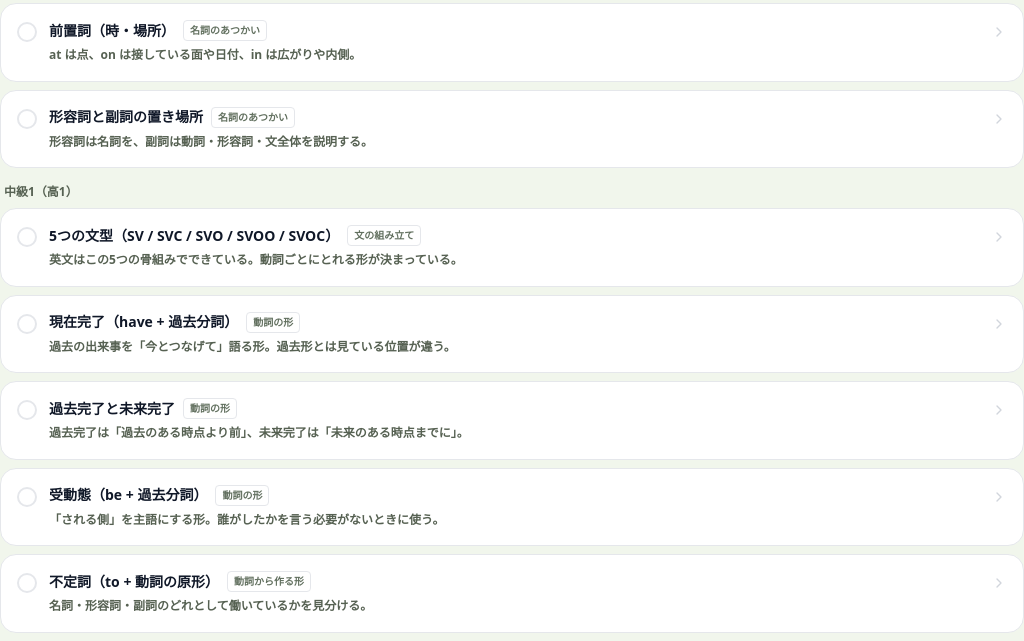
Test: 項目の詳細 › その文法が出てくる長文を並べる
(page scrolled)
Note: 現在完了は収録している長文の多くに出てくる
Step 1. Click the button with id "grammar_topic_g_present_perfect" → (144,322), box [0,294,1023,373]
(page scrolled)
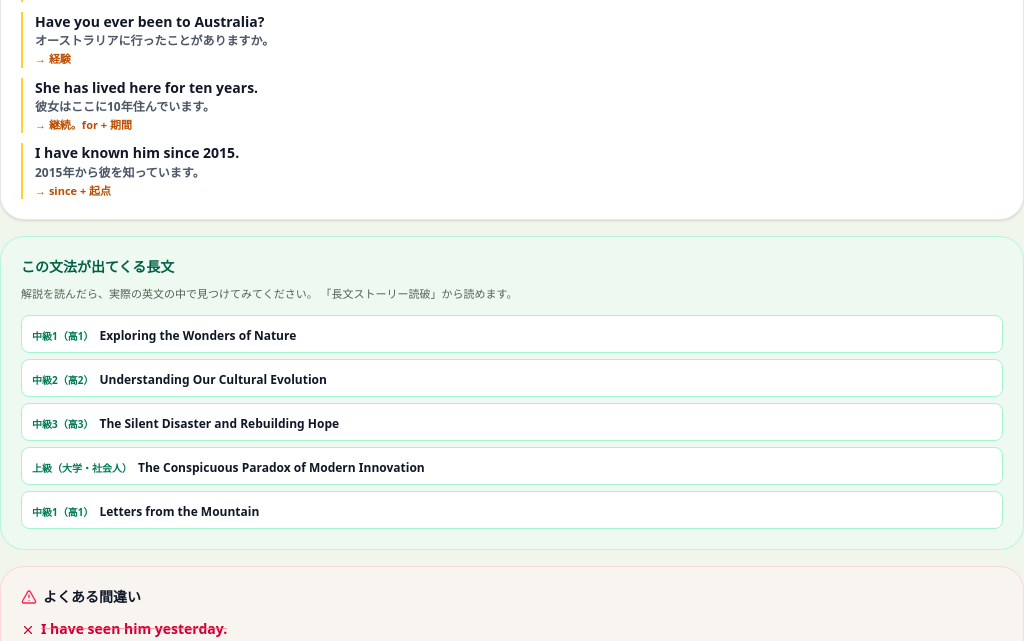
Check: the list item "中級1（高1）Exploring the Wonders of Nature" is shown, box [21,315,1003,353]
